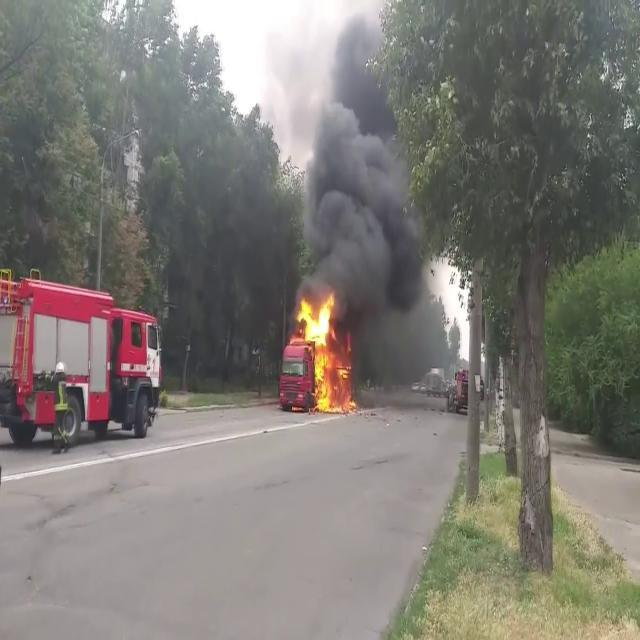Fire: (294, 290, 352, 410)
Smoke: (292, 5, 436, 343)
